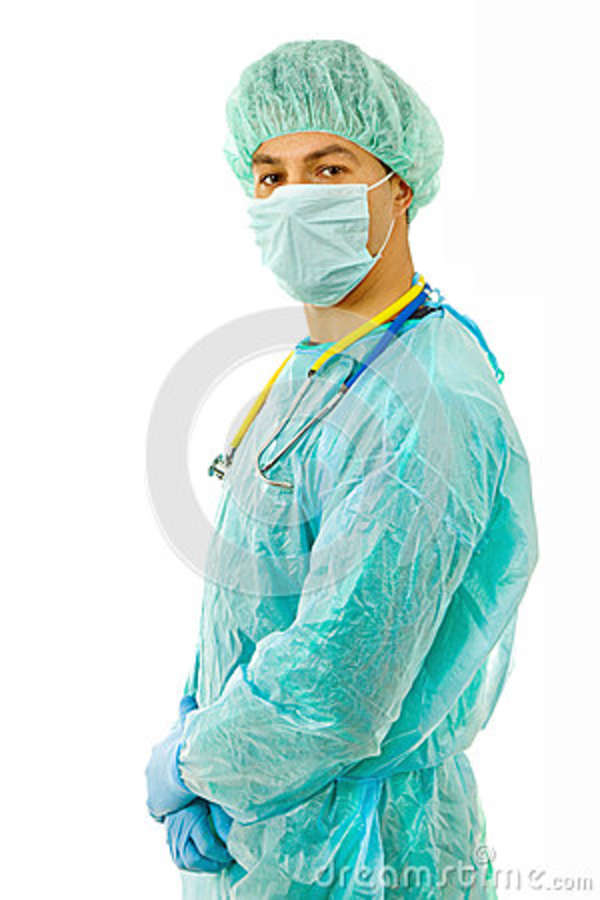mask: (252, 181, 396, 323)
